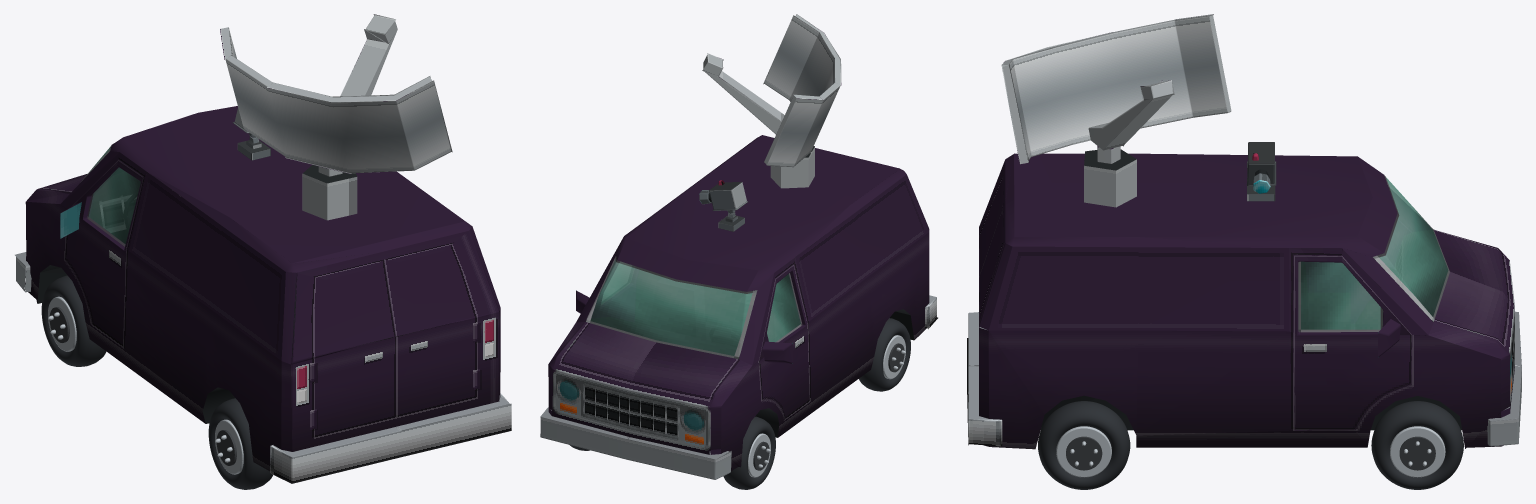
Rendered from car-cvan.glb.
3 views of the same model, side by side, from view 1: azimuth 30°, elevation 25°; view 2: azimuth 150°, elevation 25°; view 3: azimuth 270°, elevation 25° (orthographic). The views are drawn at different scales.
Visible parts, largest first — view 1: cVanShape, cVanShape.002, cVanShape.001, cVanShape.004, cVanRadarShape.001, DoorDRotShape.056, DoorDRotShape.060, Rounded tire.085, Rounded tire.086, cVanShape.003, DoorDRotShape.057, Alloy rim.086 (+2 smaller); view 2: cVanShape.002, cVanShape.003, cVanShape.004, cVanShape.001, cVanShape.005, cVanRadarShape.001, DoorDRotShape.056, Rounded tire.086, DoorDRotShape.060, Rounded tire.085, cVancamShape.001, DoorPRotShape.063 (+5 smaller); view 3: cVanShape.002, cVanShape.004, cVanRadarShape.001, DoorPRotShape.063, cVanShape.003, cVanShape, cVanShape.005, DoorPRotShape.066, Rounded tire.087, Rounded tire.084, DoorDRotShape.057, Alloy rim.084 (+4 smaller).
Part boxes in pixels (left/top/right/bottom): cVanShape: left=270, top=226, right=511, bottom=483; cVanShape.002: left=25, top=106, right=500, bottom=451; cVanShape.001: left=25, top=201, right=281, bottom=471; cVanShape.004: left=37, top=136, right=390, bottom=423; cVanRadarShape.001: left=220, top=14, right=452, bottom=176; DoorDRotShape.056: left=65, top=217, right=126, bottom=347; DoorDRotShape.060: left=87, top=167, right=140, bottom=246; Rounded tire.085: left=41, top=275, right=106, bottom=366; Rounded tire.086: left=208, top=398, right=272, bottom=489; cVanShape.003: left=15, top=174, right=136, bottom=292; DoorDRotShape.057: left=65, top=159, right=143, bottom=250; Alloy rim.086: left=215, top=419, right=243, bottom=474; cVanShape.002: left=548, top=135, right=906, bottom=470; cVanShape.003: left=540, top=322, right=752, bottom=479; cVanShape.004: left=585, top=146, right=929, bottom=437; cVanShape.001: left=721, top=232, right=929, bottom=466; cVanShape.005: left=586, top=256, right=757, bottom=358; cVanRadarShape.001: left=702, top=14, right=841, bottom=167; DoorDRotShape.056: left=759, top=323, right=809, bottom=419; Rounded tire.086: left=859, top=318, right=910, bottom=391; DoorDRotShape.060: left=767, top=273, right=802, bottom=342; Rounded tire.085: left=723, top=416, right=775, bottom=489; cVancamShape.001: left=699, top=181, right=748, bottom=213; DoorPRotShape.063: left=590, top=267, right=638, bottom=321; cVanShape.002: left=979, top=153, right=1510, bottom=449; cVanShape.004: left=988, top=149, right=1461, bottom=430; cVanRadarShape.001: left=1001, top=14, right=1231, bottom=164; DoorPRotShape.063: left=1293, top=255, right=1412, bottom=430; cVanShape.003: left=1394, top=229, right=1521, bottom=446; cVanShape: left=967, top=160, right=1012, bottom=446; cVanShape.005: left=1373, top=175, right=1449, bottom=321; DoorPRotShape.066: left=1298, top=261, right=1383, bottom=332; Rounded tire.087: left=1038, top=401, right=1130, bottom=489; Rounded tire.084: left=1371, top=401, right=1463, bottom=489; DoorDRotShape.057: left=1305, top=218, right=1411, bottom=323; Alloy rim.084: left=1390, top=426, right=1445, bottom=477.
Bounding box in the file's own units: 2.68 × 3.8 × 4.78.
Materials: 9 (6 with a texture image).
